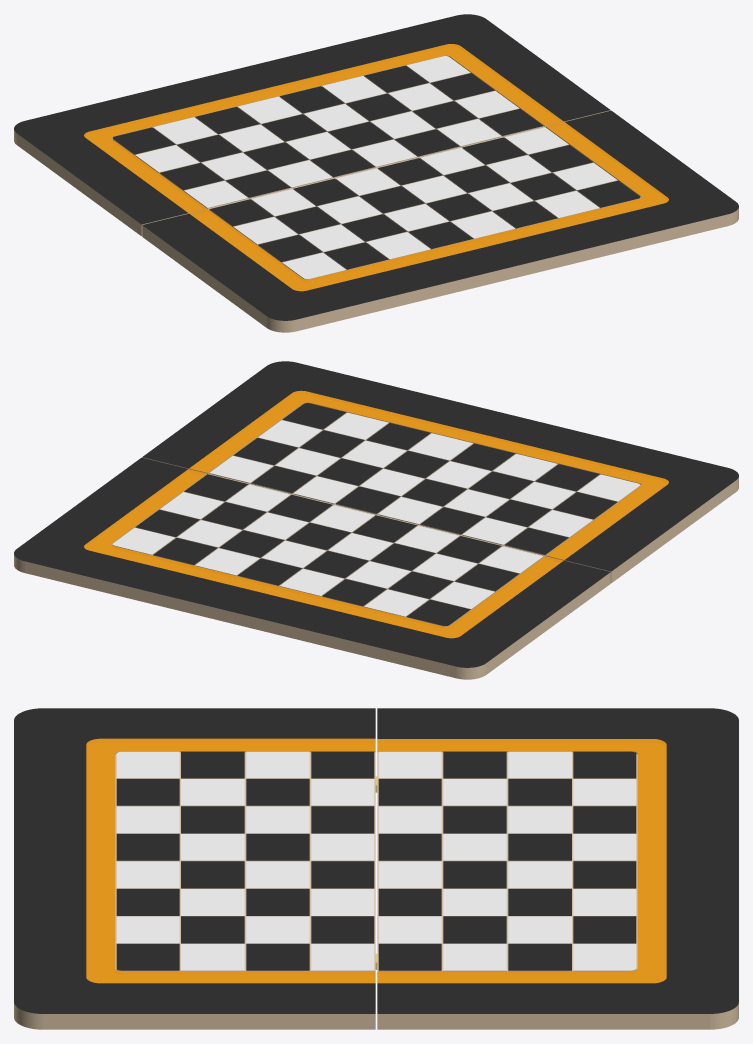
File: decorative_chess_board.glb
3 renders of one model, top to bottom at view 1: azimuth 30°, elevation 25°; view 2: azimuth 150°, elevation 25°; view 3: azimuth 270°, elevation 25°, orthographic. The views are drawn at different scales.
Visible parts, largest first — view 1: Object_4, Object_3, Object_2, Object_5; view 2: Object_4, Object_3, Object_2, Object_5; view 3: Object_4, Object_3, Object_5, Object_2.
Boxes of the visible parts, x1=… form: Object_4: x1=14, y1=14, x2=738, y2=320; Object_3: x1=136, y1=56, x2=617, y2=278; Object_2: x1=14, y1=55, x2=738, y2=332; Object_5: x1=84, y1=44, x2=668, y2=291; Object_4: x1=14, y1=361, x2=738, y2=667; Object_3: x1=113, y1=412, x2=639, y2=616; Object_2: x1=14, y1=402, x2=738, y2=679; Object_5: x1=84, y1=390, x2=668, y2=638; Object_4: x1=14, y1=708, x2=738, y2=1013; Object_3: x1=116, y1=751, x2=636, y2=970; Object_5: x1=86, y1=738, x2=666, y2=983; Object_2: x1=14, y1=751, x2=738, y2=1029.
Bounding box in the file's own units: 500 × 13.1 × 501.
